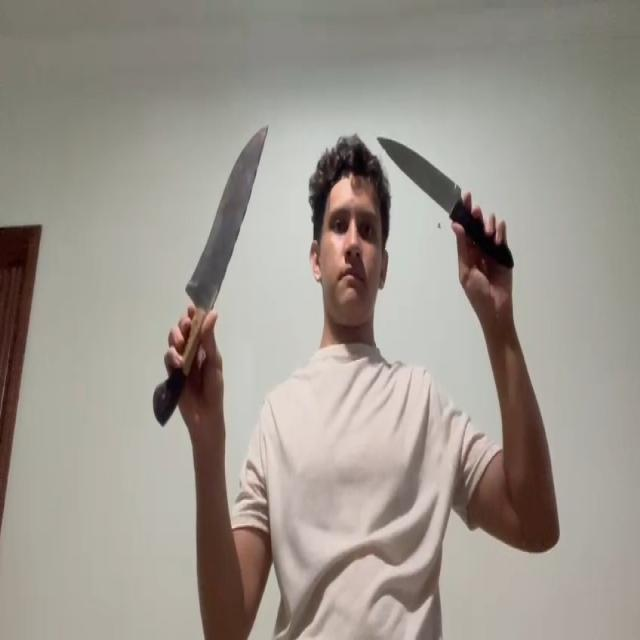knife: (185, 123, 268, 307), (378, 135, 461, 205)
